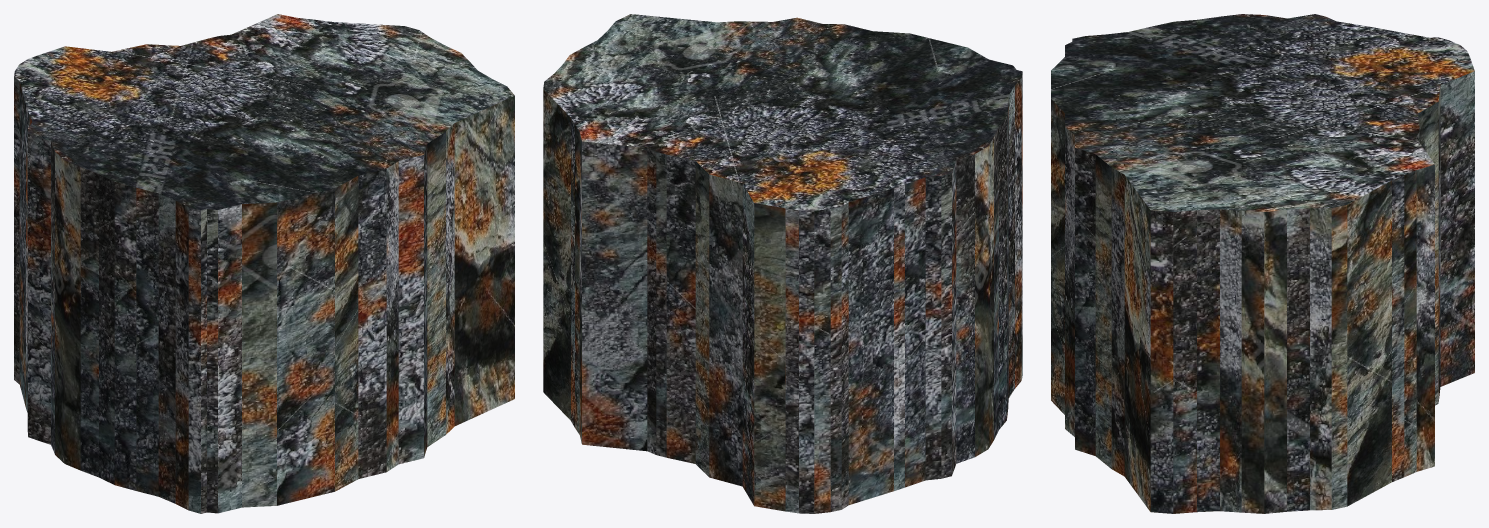
Rendered from base_pedra2.fbx.
3 renders of one model, left to right at view 1: azimuth 30°, elevation 25°; view 2: azimuth 150°, elevation 25°; view 3: azimuth 270°, elevation 25°, orthographic.
Parts seen in each view (by area): view 1: base 2; view 2: base 2; view 3: base 2.
Part boxes in pixels (x1,y1,x2,y2): base 2: (14, 14, 514, 513); base 2: (543, 14, 1022, 513); base 2: (1051, 14, 1474, 513).
Size of the model in its own units: 161 by 146 by 114.
Materials: 1 (1 with a texture image).
